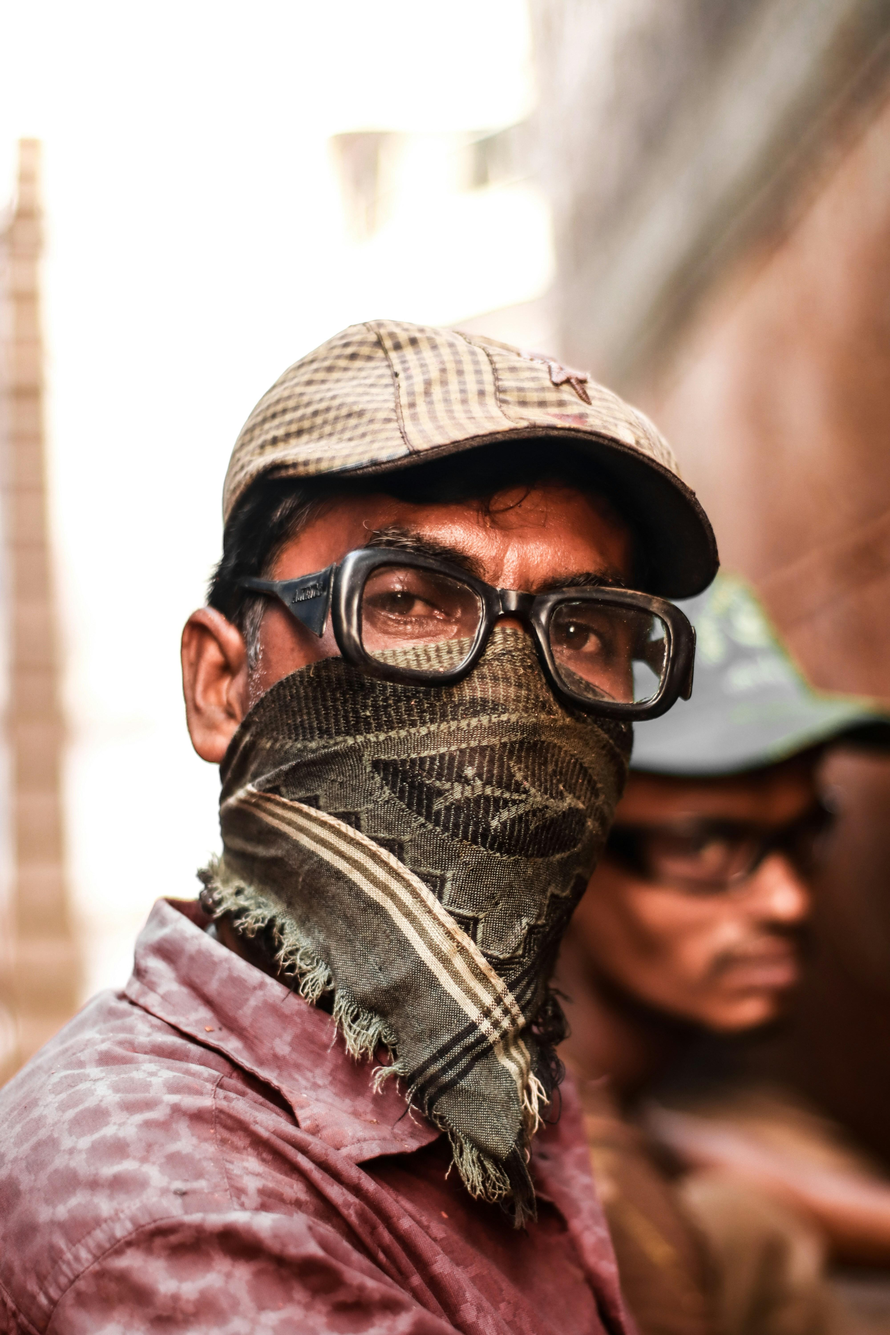cap: (211, 314, 759, 610)
scarf-kerchief: (198, 634, 643, 1155)
sunglasses: (229, 541, 708, 728)
